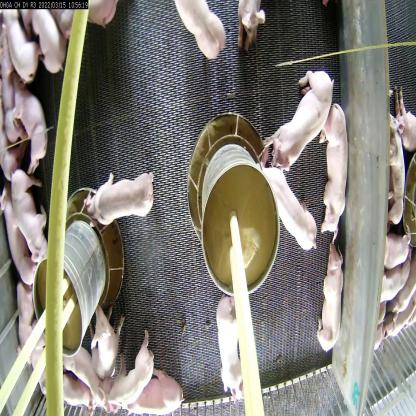Pig: (265, 67, 333, 175), (257, 151, 326, 257), (2, 160, 49, 276), (2, 72, 49, 174), (315, 103, 352, 229), (214, 288, 251, 404), (108, 333, 159, 416), (122, 353, 186, 416), (316, 247, 353, 354), (174, 0, 228, 72), (86, 176, 160, 227), (27, 0, 67, 83), (90, 300, 127, 382), (66, 348, 100, 403)
